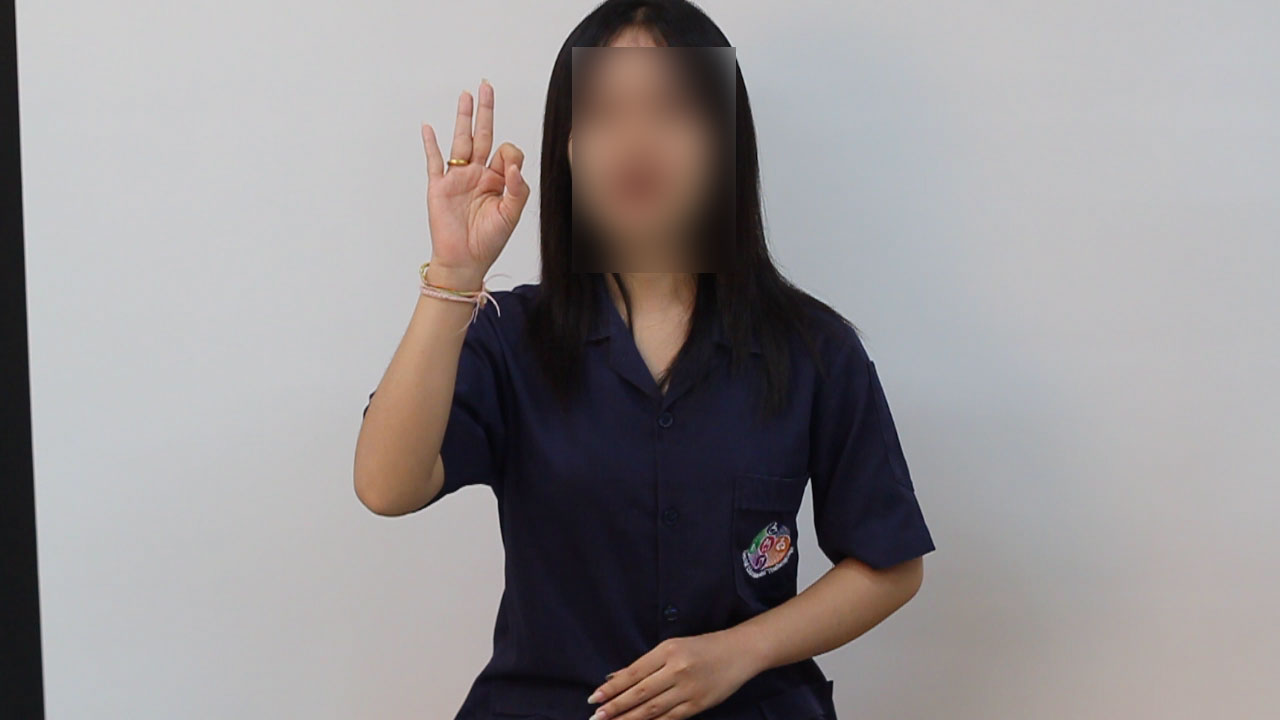for: (415, 69, 534, 277)
